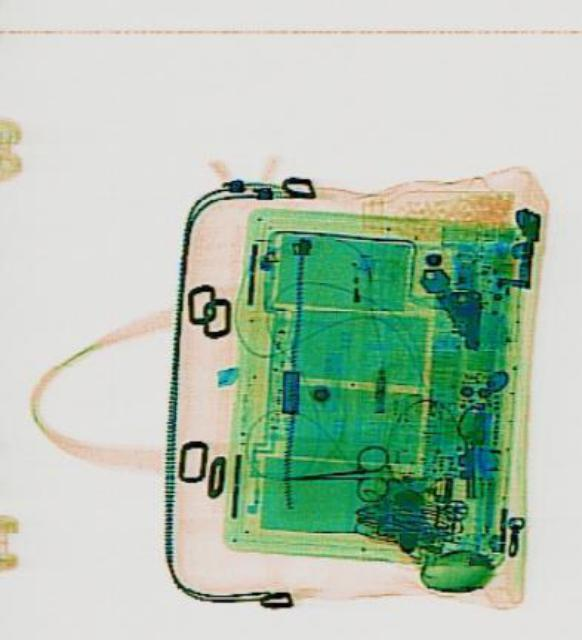Scissors: (277, 443, 387, 503)
